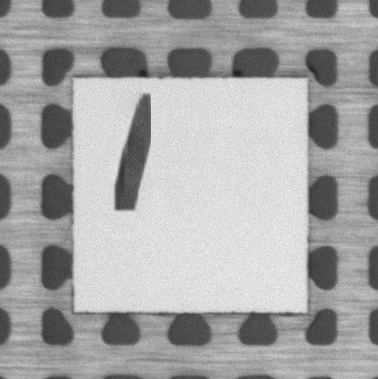DIE_INK: (104, 86, 158, 219)
